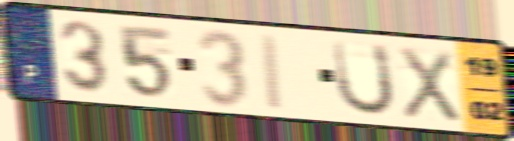3: (195, 25, 253, 112), (57, 17, 110, 97)
5: (116, 23, 178, 100)
I: (258, 30, 287, 113)
U: (330, 37, 398, 118)
X: (395, 43, 464, 125)
